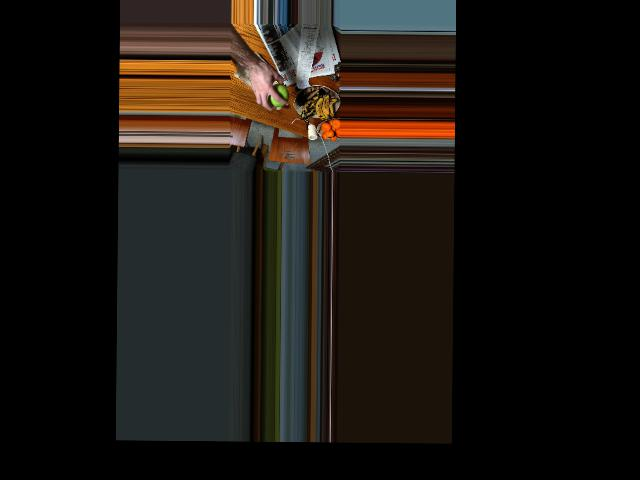apple: (265, 82, 288, 108)
